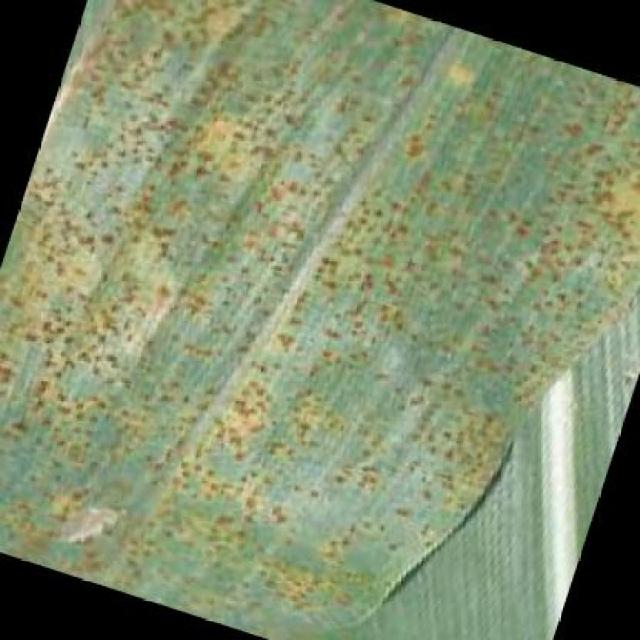Corn_Rust: (72, 49, 526, 577)
